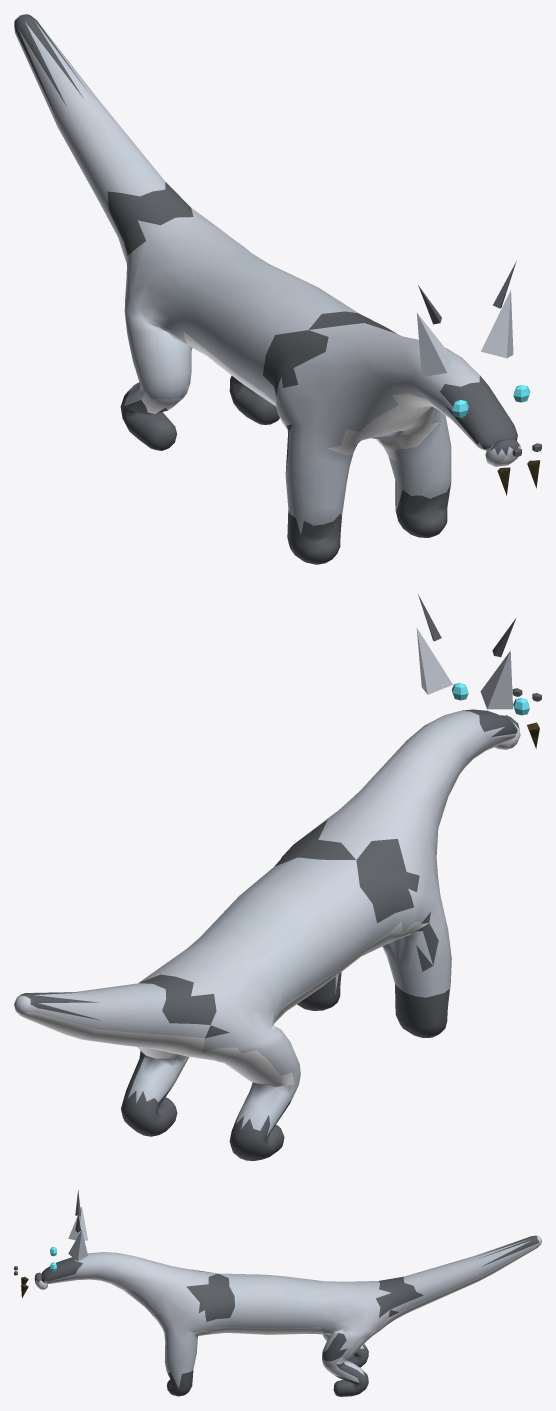
Rendered from mon_quad_03.glb.
3 views of the same model, one above another, from view 1: azimuth 30°, elevation 25°; view 2: azimuth 150°, elevation 25°; view 3: azimuth 270°, elevation 25° (orthographic). The views are drawn at different scales.
Parts seen in each view (by area): view 1: mon_quad_03; view 2: mon_quad_03; view 3: mon_quad_03.
Boxes of the visible parts, bbox=[...] form: mon_quad_03: bbox=[14, 14, 541, 564]; mon_quad_03: bbox=[14, 594, 541, 1160]; mon_quad_03: bbox=[14, 1190, 541, 1396].
Bounding box in the file's own units: 0.3146 × 0.6708 × 1.77.
Materials: 5 (4 with a texture image).
